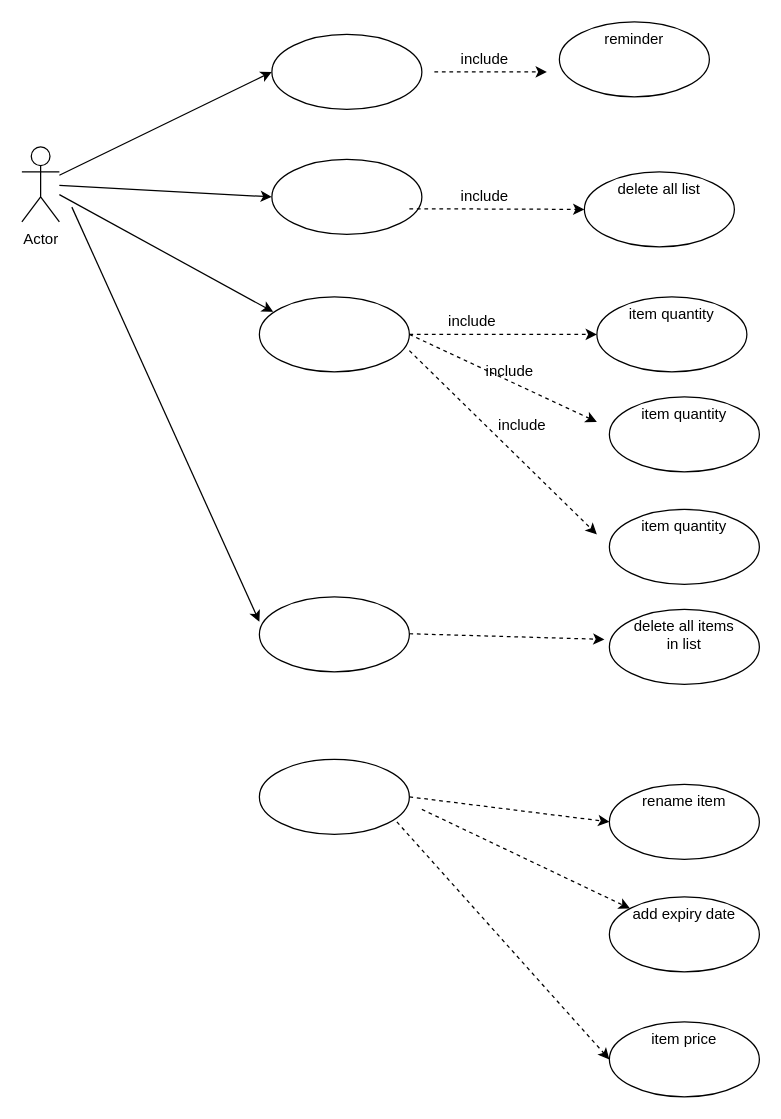
Some shapes in this 781 by 1119 pixel diagram are drawn without their labels. The box of each missing label's shape, as (x1, y1, x2, y2) in pixels:
add item to list: (258, 296, 409, 372)
create list: (271, 33, 422, 109)
delete item: (258, 596, 409, 672)
delete list: (271, 158, 422, 234)
update item: (258, 758, 409, 834)
